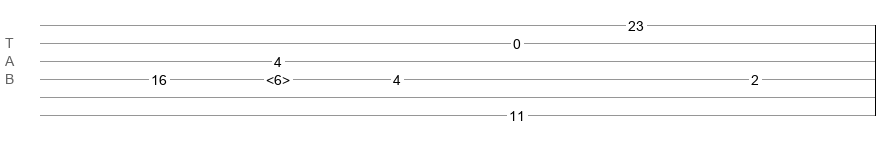0: (513, 36, 521, 46)
11: (509, 108, 525, 118)
16: (151, 72, 167, 82)
2: (751, 72, 759, 82)
23: (628, 18, 644, 28)
4: (274, 54, 282, 64), (393, 72, 401, 82)
harmonic: (266, 72, 290, 82)
